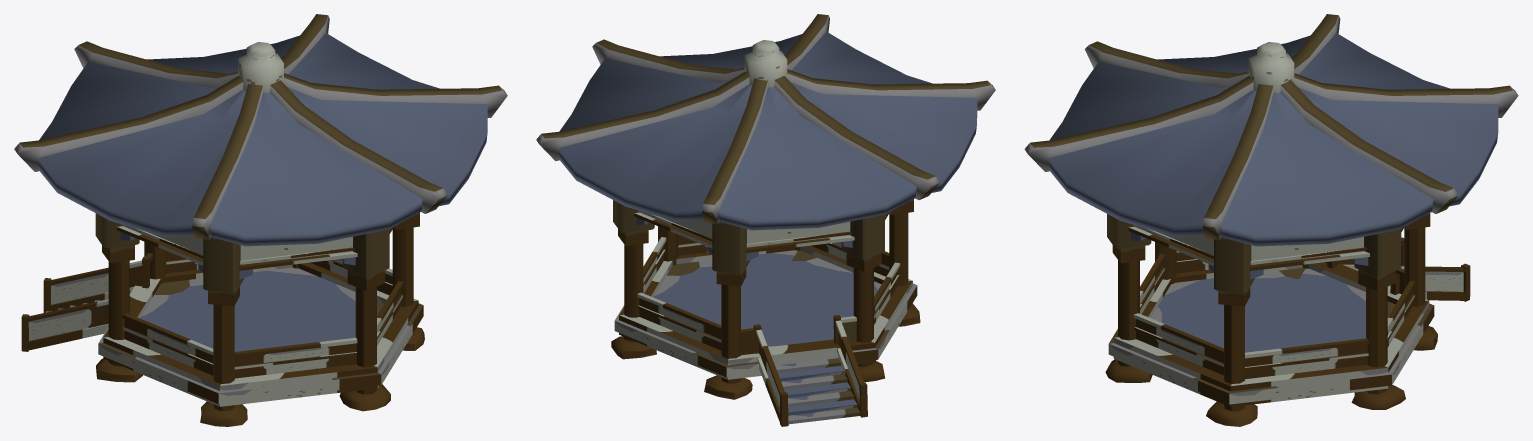
The model's file is lt02arbor.fbx.
3 views of the same model, side by side, from view 1: azimuth 30°, elevation 25°; view 2: azimuth 150°, elevation 25°; view 3: azimuth 270°, elevation 25° (orthographic). The views are drawn at different scales.
Visible parts, largest first — view 1: _42; view 2: _42; view 3: _42.
Part boxes in pixels (x1,y1,x2,y2): _42: (14, 14, 507, 426); _42: (536, 14, 995, 426); _42: (1024, 14, 1518, 426).
Size of the model in its own units: 304 by 210 by 302.
